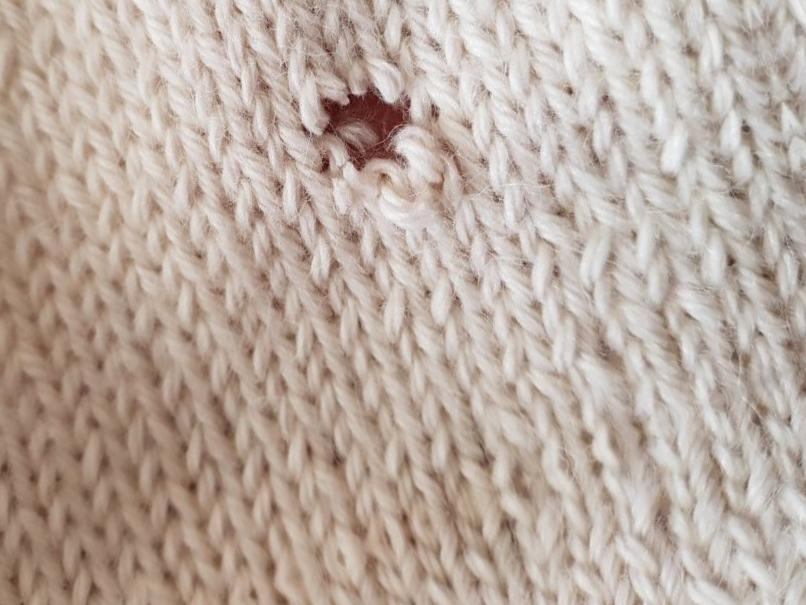hole: (291, 80, 436, 185)
